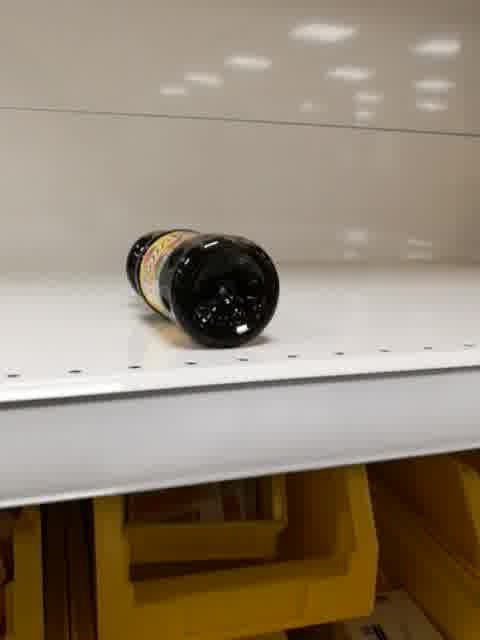cookingoil: (123, 225, 283, 352)
